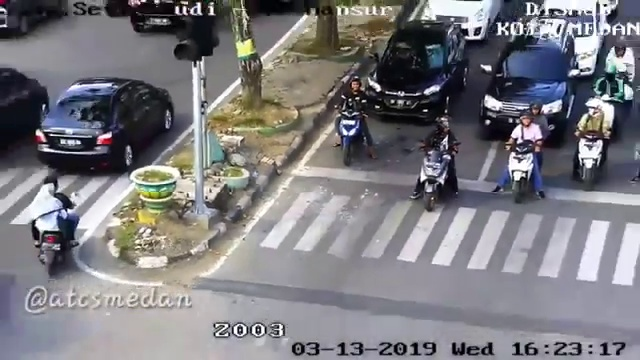car: (37, 78, 177, 179), (368, 21, 470, 124), (480, 35, 572, 141), (537, 2, 604, 84), (1, 67, 48, 153)
motorbike: (31, 173, 79, 276), (416, 113, 463, 211), (501, 104, 548, 202), (570, 99, 614, 191), (338, 73, 377, 167), (594, 60, 628, 141), (604, 38, 634, 117)
